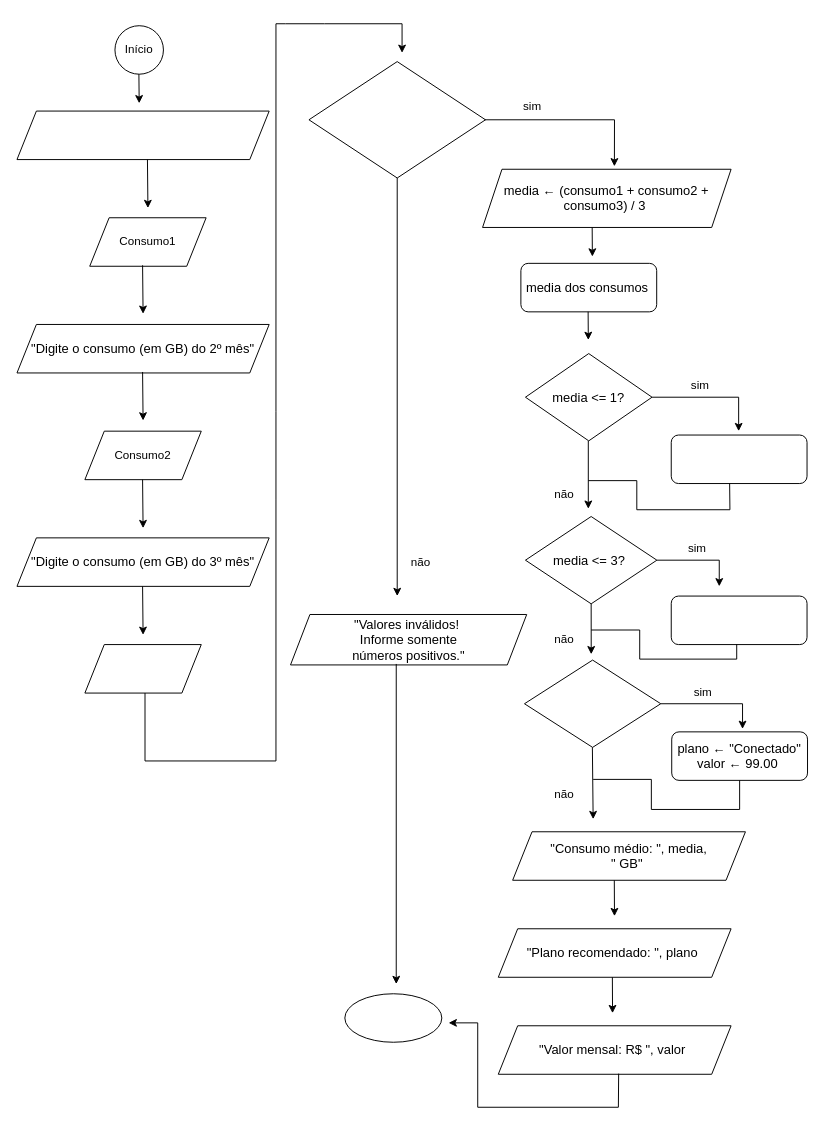
This 825x1132 diagram has some shape labels left out. The centre of each missing label's shape, as x and y in pixels:
"Digite o consumo (em GB) do 1º mês": pixel 142 135
(consumo1 >= 0) E (consumo2 >= 0) E (consumo3 >= 0) ?: pixel 396 119
Consumo3: pixel 142 668
Fim: pixel 393 1017
media maior <= 3?: pixel 592 703
plano ← "Básico" valor ← 30.00: pixel 738 459
plano ← "Mediano" valor ← 62.00: pixel 738 620
